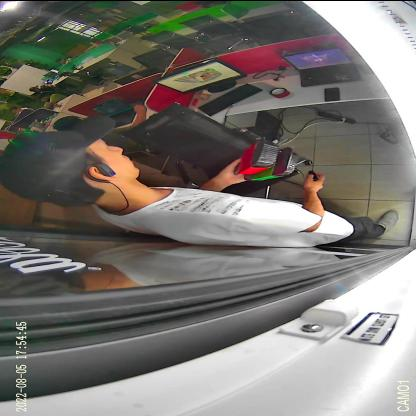green: (243, 146, 299, 180)
red: (233, 136, 280, 174)
